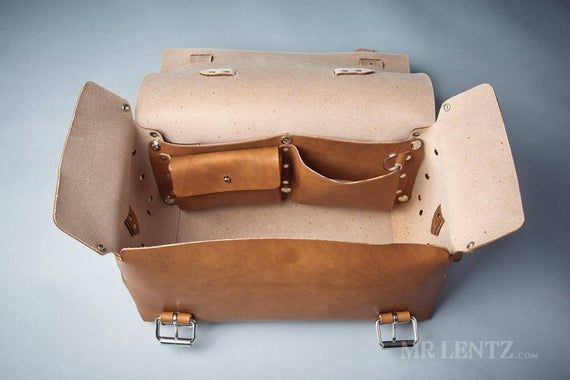cuero: (118, 136, 450, 324)
